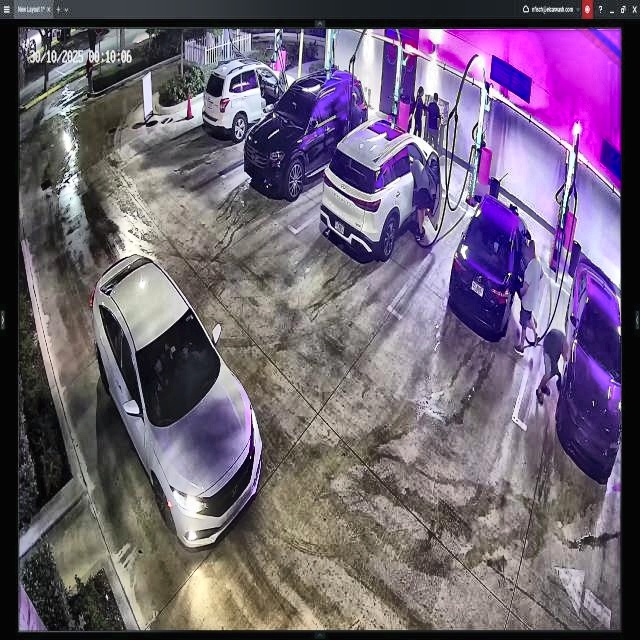Car: (90, 249, 264, 549), (324, 117, 441, 265), (244, 68, 368, 194), (447, 194, 532, 335), (202, 61, 299, 145)
